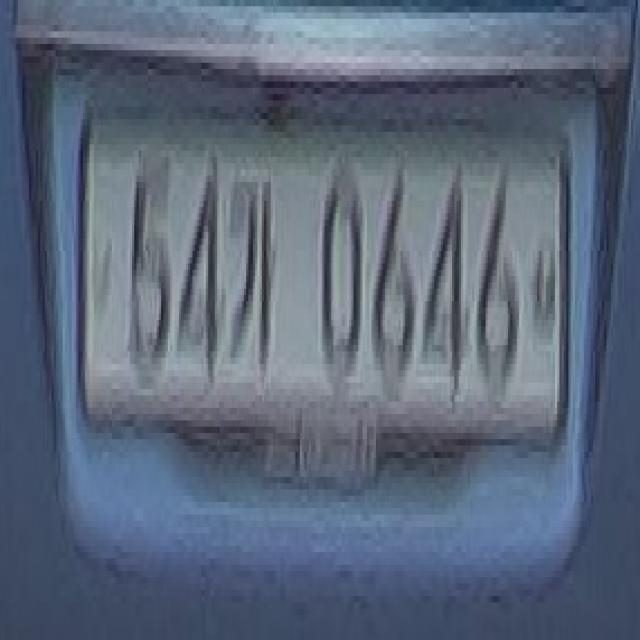0: (318, 144, 365, 383)
4: (414, 163, 477, 402), (175, 150, 228, 382)
5: (123, 138, 172, 377)
6: (472, 157, 524, 408), (367, 163, 421, 383)
ga: (226, 170, 280, 376)
license_plate: (74, 100, 575, 490)
